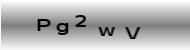2: (74, 14, 87, 27)
P: (35, 18, 51, 31)
V: (123, 25, 140, 39)
g: (56, 21, 68, 36)
w: (97, 26, 115, 36)
